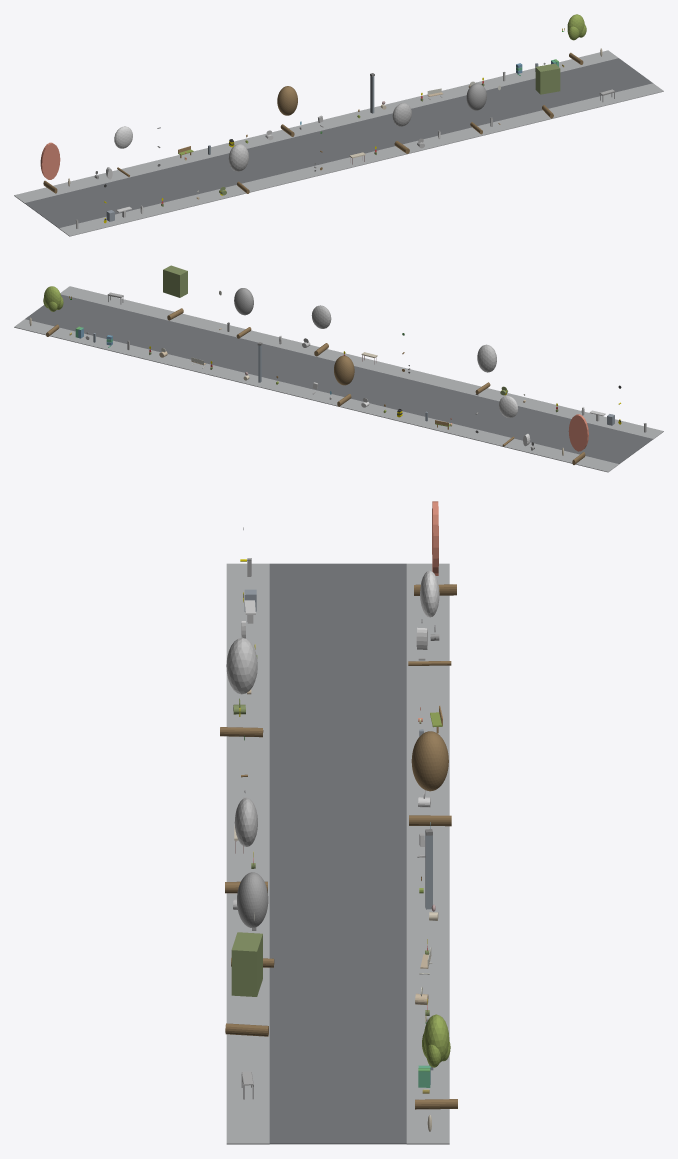
3 views of the same model, one above another, from view 1: azimuth 30°, elevation 25°; view 2: azimuth 150°, elevation 25°; view 3: azimuth 270°, elevation 25° (orthographic). The views are drawn at different scales.
Visible parts, largest first — view 1: road_slab, sidewalk_left, sidewalk_right, inst_0024, inst_0018, inst_0021, inst_0020, inst_0023, inst_0025, inst_0022, inst_0019; view 2: road_slab, sidewalk_right, sidewalk_left, inst_0024, inst_0018, inst_0021, inst_0020, inst_0023, inst_0025, inst_0022, inst_0019; view 3: road_slab, sidewalk_right, sidewalk_left, inst_0024, inst_0021, inst_0020, inst_0025, inst_0023, inst_0022, inst_0019.
Part boxes in pixels (x1,y1,x2,y2): road_slab: (24,58,652,228); sidewalk_left: (59,83,663,236); sidewalk_right: (14,50,618,203); inst_0024: (535,63,560,118); inst_0018: (40,142,60,193); inst_0021: (277,86,297,136); inst_0020: (228,144,249,193); inst_0023: (466,83,486,134); inst_0025: (567,14,586,64); inst_0022: (392,103,411,153); inst_0019: (114,126,132,176); road_slab: (25,294,653,464); sidewalk_right: (14,319,618,472); sidewalk_left: (60,286,663,439); inst_0024: (163,265,187,320); inst_0018: (568,414,588,464); inst_0021: (334,355,354,406); inst_0020: (475,344,496,394); inst_0023: (234,288,253,338); inst_0025: (43,286,63,336); inst_0022: (311,305,331,356); inst_0019: (499,396,518,446); road_slab: (269,563,406,1144); sidewalk_right: (406,563,449,1144); sidewalk_left: (226,563,269,1144); inst_0024: (225,932,268,1036); inst_0021: (409,731,451,826); inst_0020: (220,637,263,737); inst_0025: (415,1014,457,1109); inst_0023: (231,872,274,967); inst_0022: (225,798,267,893); inst_0019: (408,570,451,665).
Size of the model in its own units: 80 by 6.08 by 13.88.
